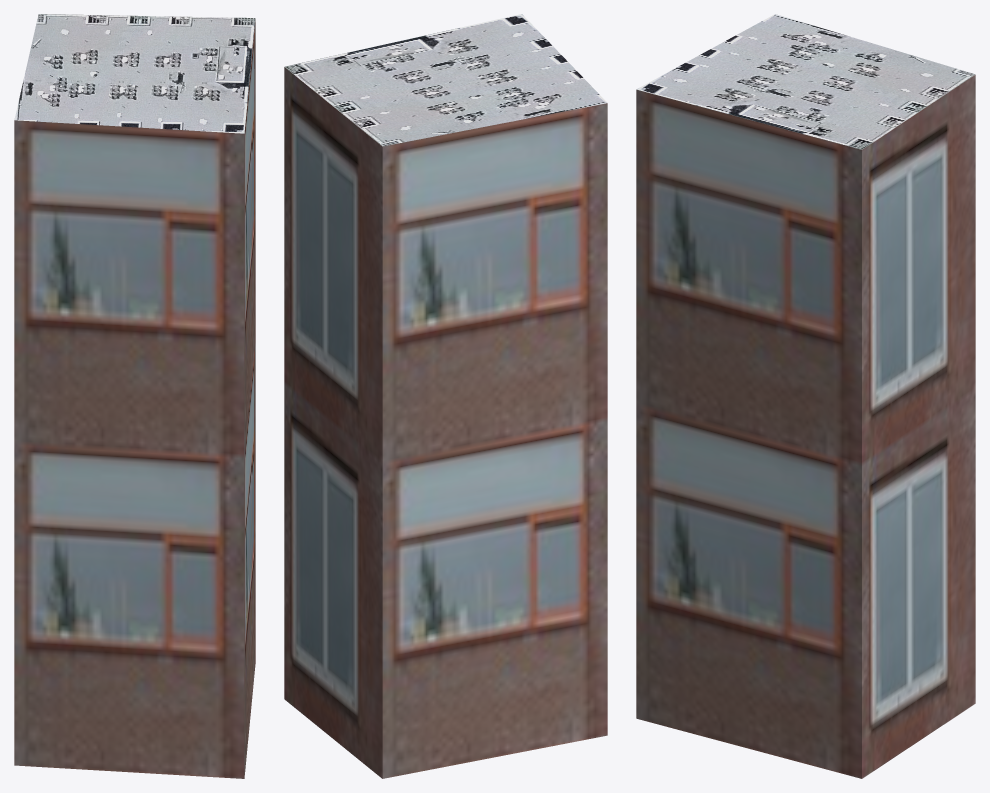
Rendered from ResTex__4490.fbx.
The picture shows the model from 3 angles, left to right: view 1: azimuth 30°, elevation 25°; view 2: azimuth 150°, elevation 25°; view 3: azimuth 270°, elevation 25°; orthographic projection. The views are drawn at different scales.
Parts seen in each view (by area): view 1: CityEngineMaterial_19_m, CityEngineMaterial_15_m; view 2: CityEngineMaterial_19_m, CityEngineMaterial_15_m; view 3: CityEngineMaterial_19_m, CityEngineMaterial_15_m.
Part boxes in pixels (x1,y1,x2,y2): CityEngineMaterial_19_m: (14,19,255,778); CityEngineMaterial_15_m: (14,14,255,133); CityEngineMaterial_19_m: (284,67,607,778); CityEngineMaterial_15_m: (284,14,607,146); CityEngineMaterial_19_m: (636,75,975,778); CityEngineMaterial_15_m: (636,14,975,149).
Bounding box in the file's own units: 2.78 × 6 × 2.94.
2 materials, 2 textured.
